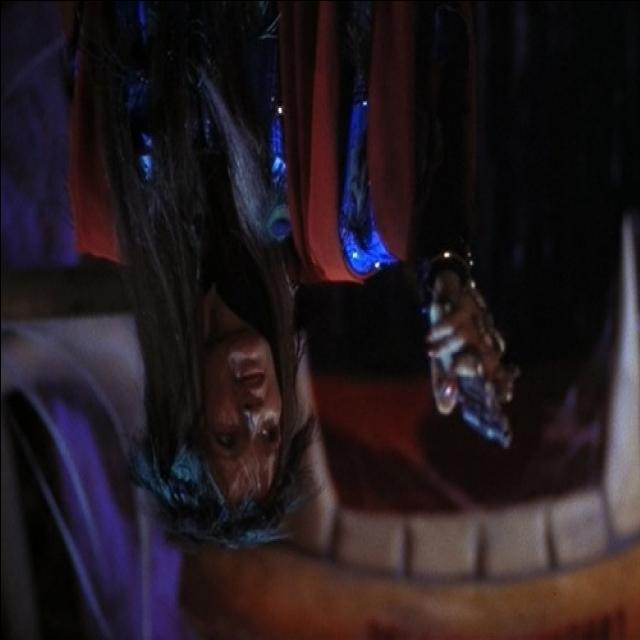weapons: (399, 281, 541, 473)
